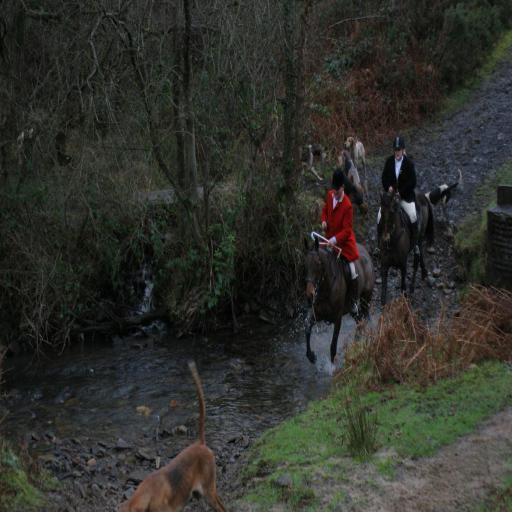horse: (302, 238, 376, 368), (378, 186, 436, 314)
